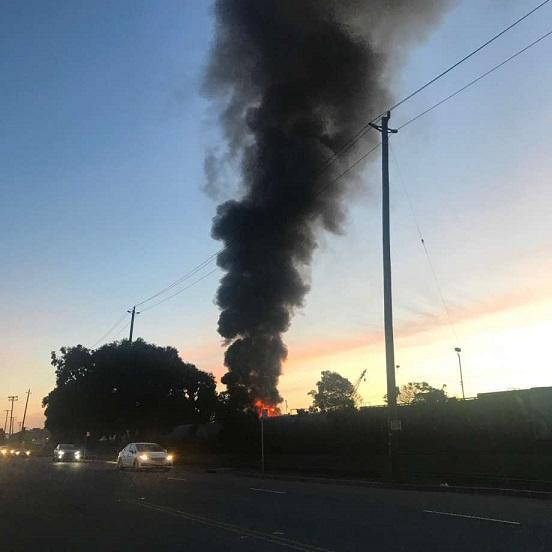Fire: (248, 394, 287, 419)
